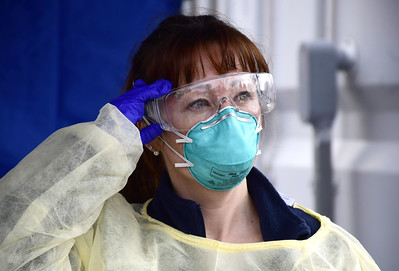n95: (175, 103, 263, 190)
